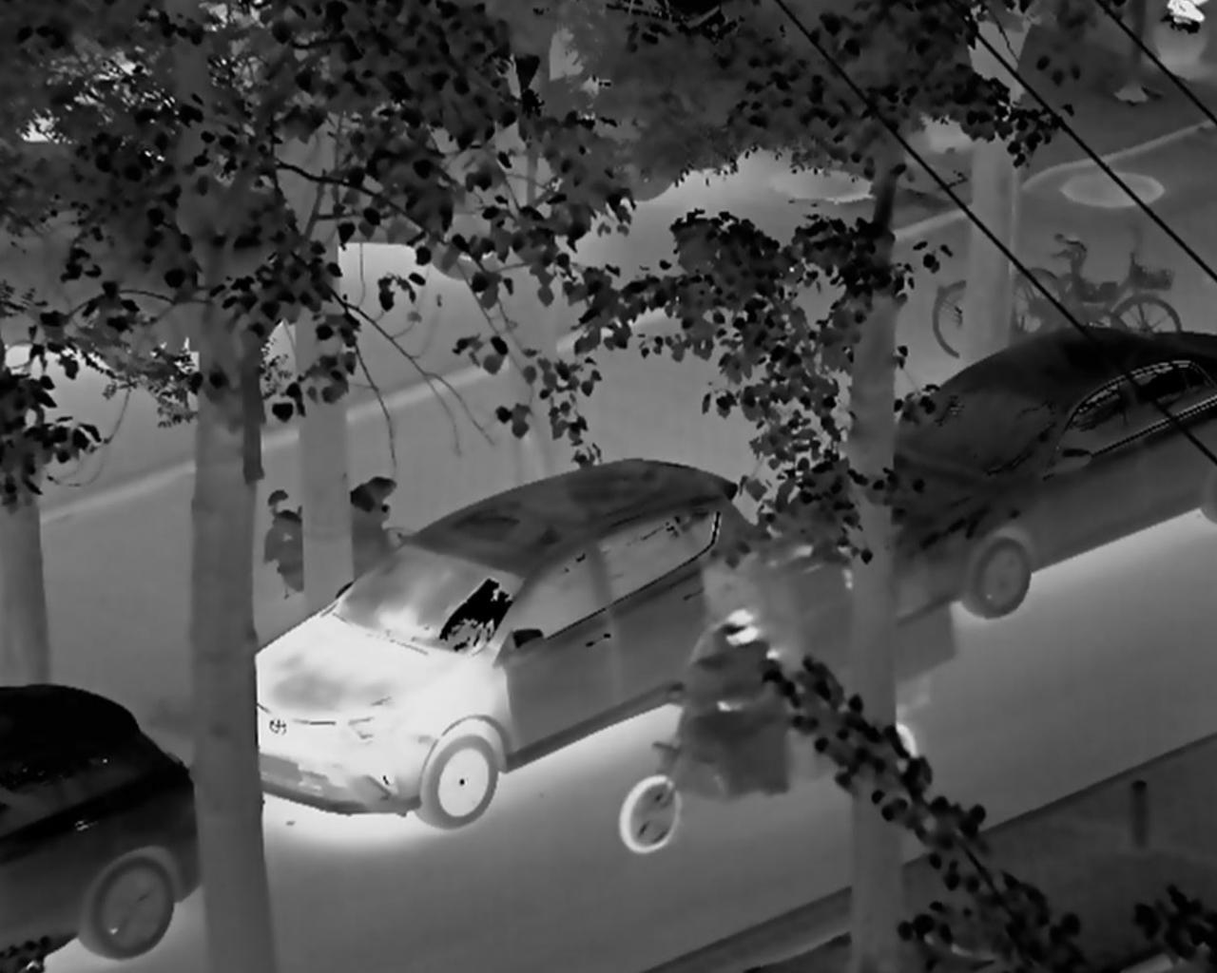person: (623, 603, 813, 846)
